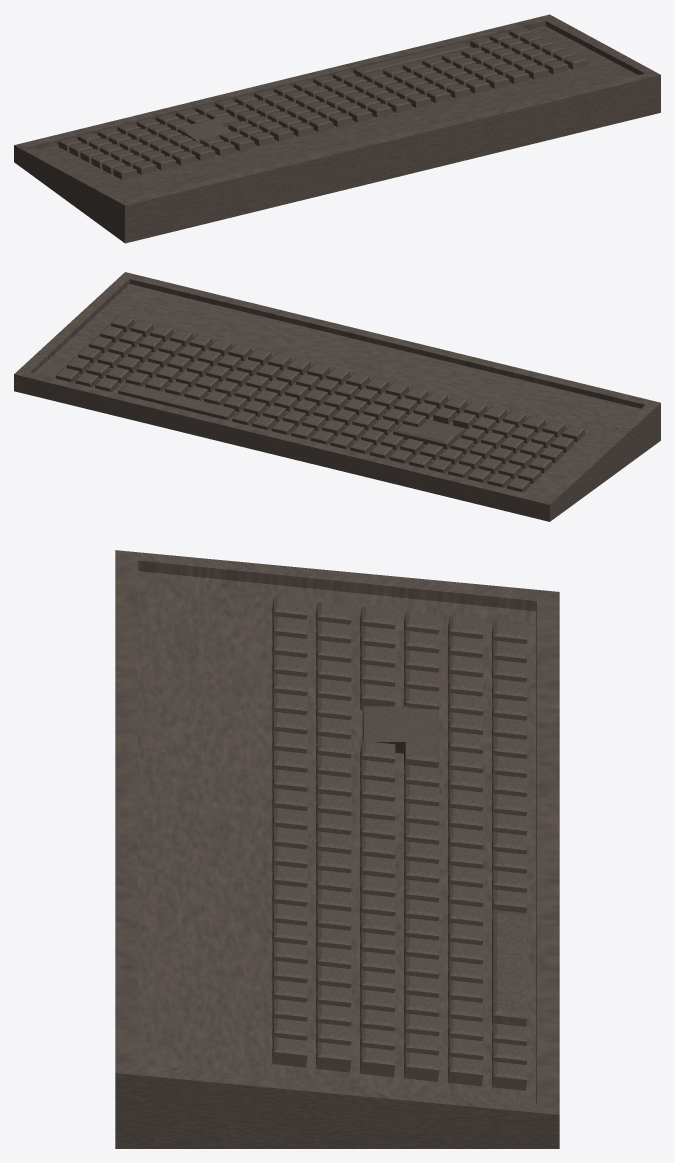
The model's file is computer-keyboard.glb.
3 views of the same model, one above another, from view 1: azimuth 30°, elevation 25°; view 2: azimuth 150°, elevation 25°; view 3: azimuth 270°, elevation 25° (orthographic). The views are drawn at different scales.
Visible parts, largest first — view 1: Cube.003; view 2: Cube.003; view 3: Cube.003.
Part boxes in pixels (box(x1,y1,x2,y2)): Cube.003: box(14, 14, 660, 243); Cube.003: box(14, 272, 660, 521); Cube.003: box(115, 550, 559, 1148).
Bounding box in the file's own units: 0.6511 × 0.044 × 0.2339.
Materials: 1 (1 with a texture image).
